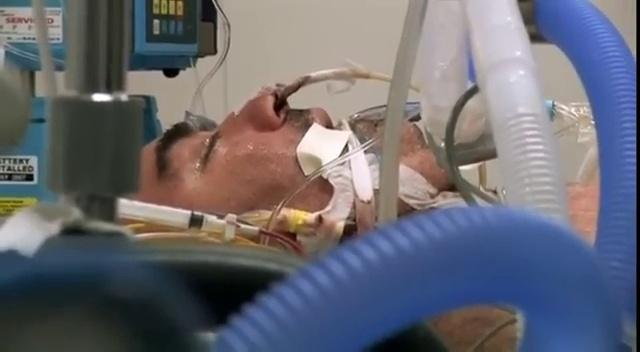patient: (132, 72, 483, 231)
